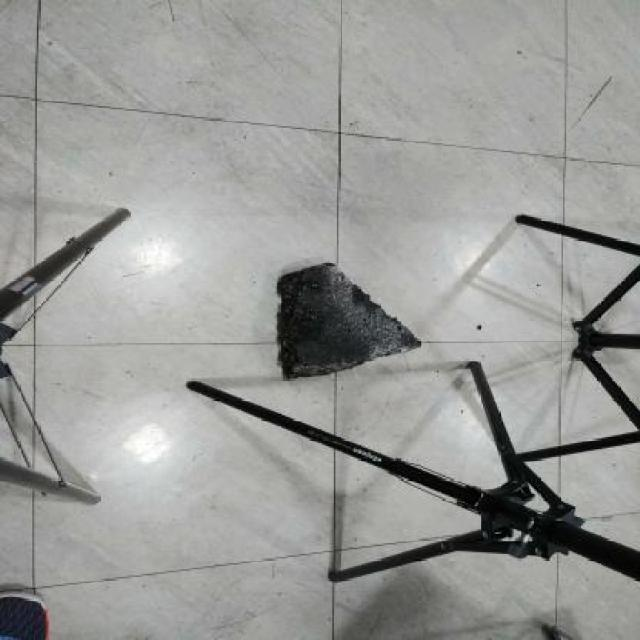Road Debris: (277, 260, 368, 377)
